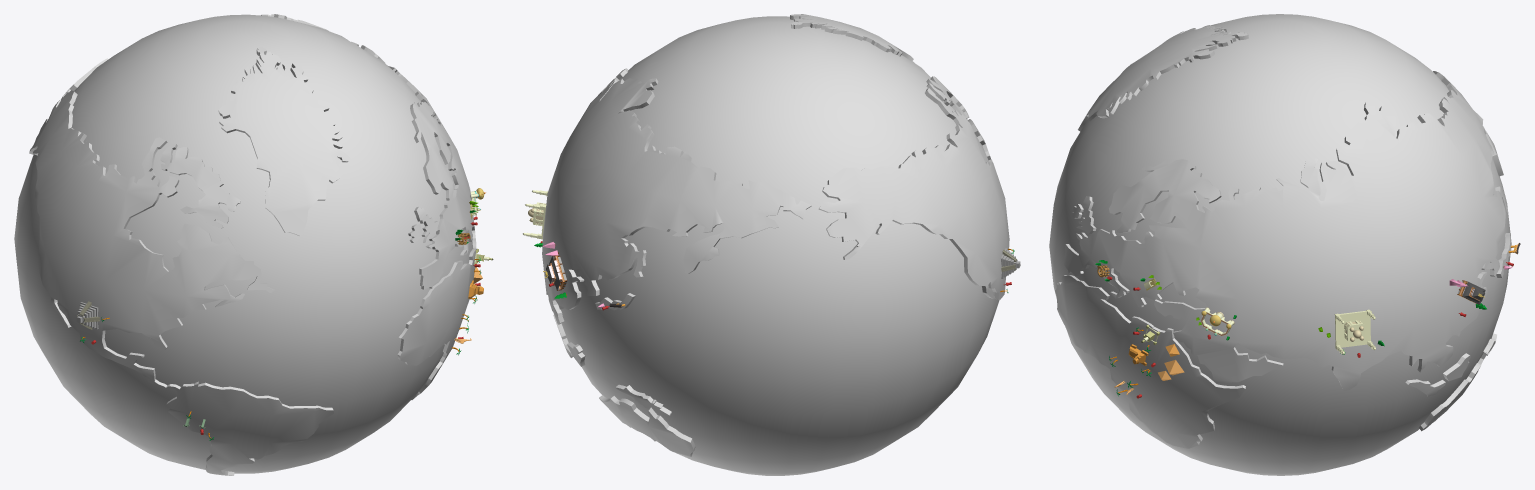
Rendered from Bola del mundo nueva 4.fbx.
3 renders of one model, left to right at view 1: azimuth 30°, elevation 25°; view 2: azimuth 150°, elevation 25°; view 3: azimuth 270°, elevation 25°, orthographic.
Parts seen in each view (by area): view 1: Sphere044, Sphere001; view 2: Sphere044, Sphere001; view 3: Sphere001, Sphere044, Box047.
Part boxes in pixels (bbox=[...]): Sphere044: bbox=[14, 14, 493, 473]; Sphere001: bbox=[29, 14, 476, 475]; Sphere044: bbox=[548, 16, 999, 475]; Sphere001: bbox=[542, 14, 1009, 456]; Sphere001: bbox=[1055, 25, 1511, 448]; Sphere044: bbox=[1049, 14, 1511, 475]; Box047: bbox=[1335, 311, 1370, 347].
Bounding box in the file's own units: 323 × 306 × 312.
